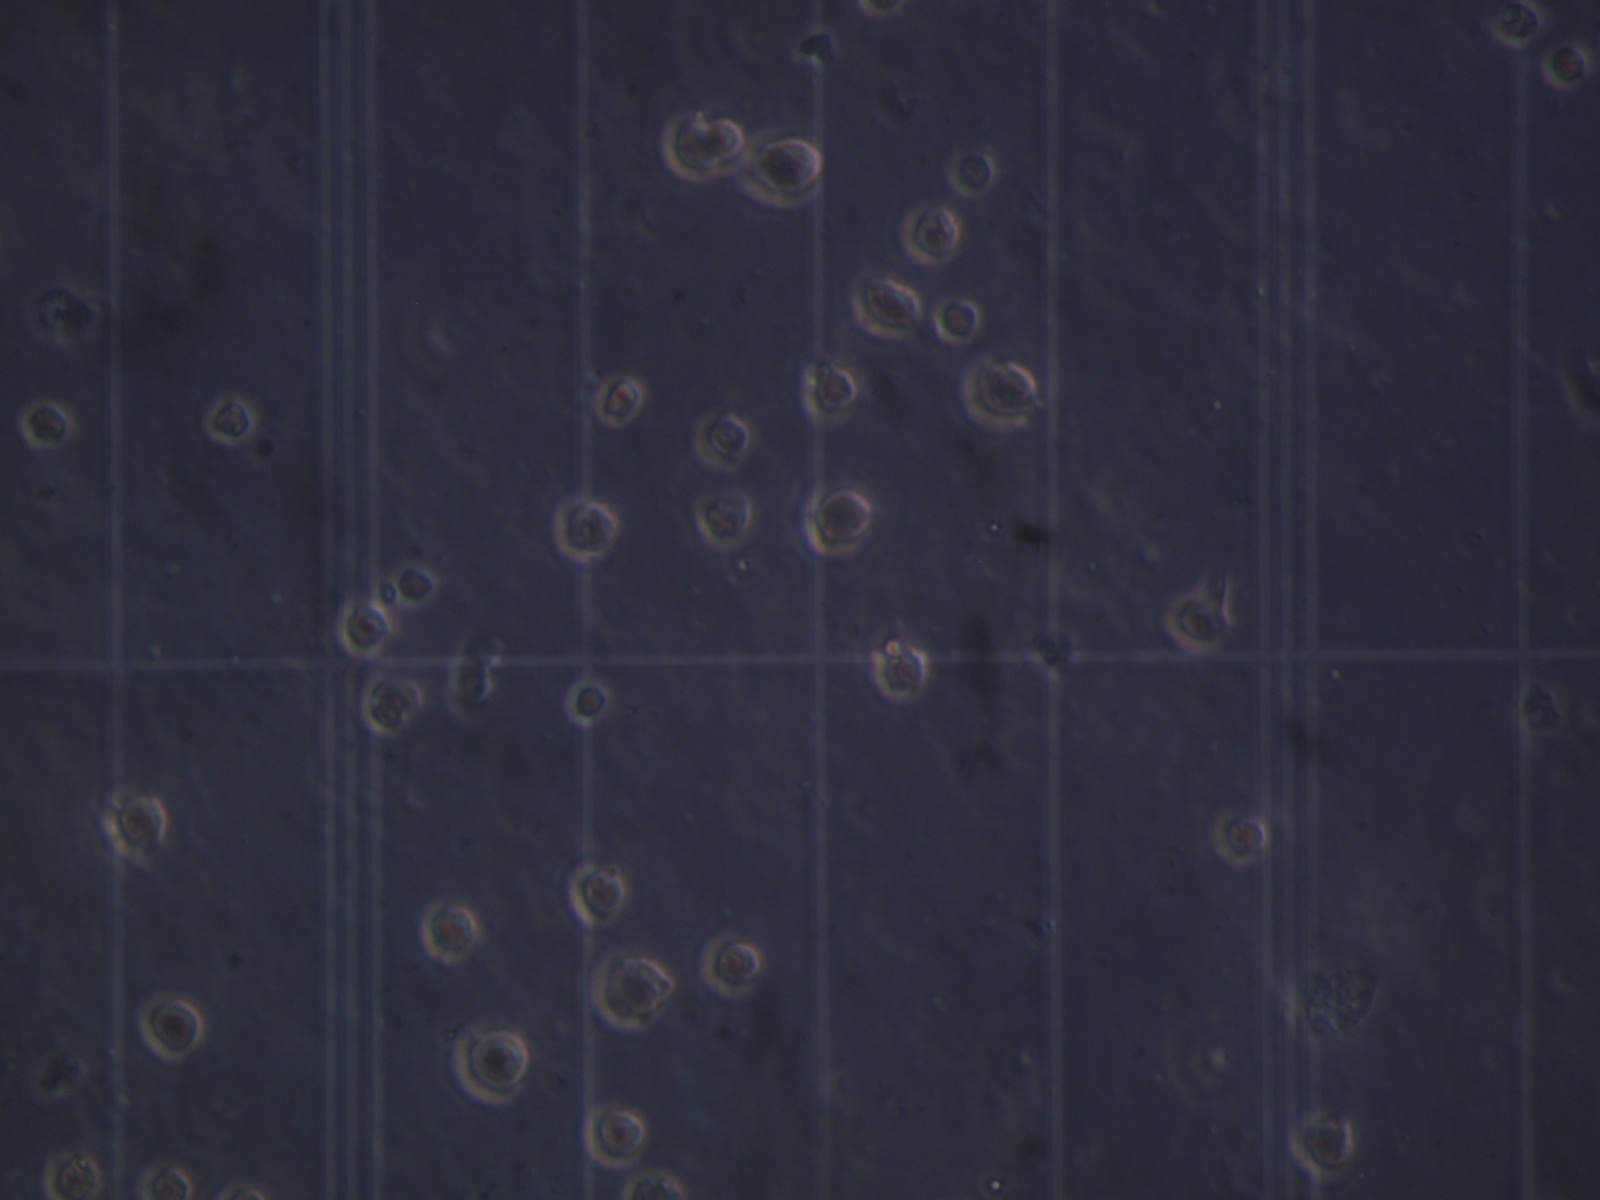hemo: (591, 947, 675, 1031), (452, 1022, 530, 1109), (734, 135, 821, 209), (961, 354, 1038, 430), (663, 110, 745, 180), (849, 268, 922, 342), (797, 485, 871, 558), (581, 1098, 646, 1174), (101, 785, 168, 858), (1288, 1112, 1357, 1179), (552, 492, 615, 562), (700, 930, 763, 998), (139, 995, 202, 1061), (567, 861, 627, 930), (690, 488, 753, 553), (800, 355, 859, 425), (420, 896, 477, 966), (1163, 592, 1225, 652), (901, 203, 957, 265), (43, 1148, 108, 1200), (202, 389, 260, 447), (362, 673, 414, 736), (1211, 811, 1267, 868), (694, 412, 751, 469), (339, 599, 391, 661), (873, 647, 927, 698), (942, 145, 995, 197), (19, 398, 72, 449), (597, 372, 643, 427), (386, 565, 438, 611), (1490, 1, 1543, 47), (931, 296, 979, 345), (137, 1160, 195, 1200), (1545, 42, 1590, 91), (567, 679, 610, 727), (624, 1170, 688, 1200)
